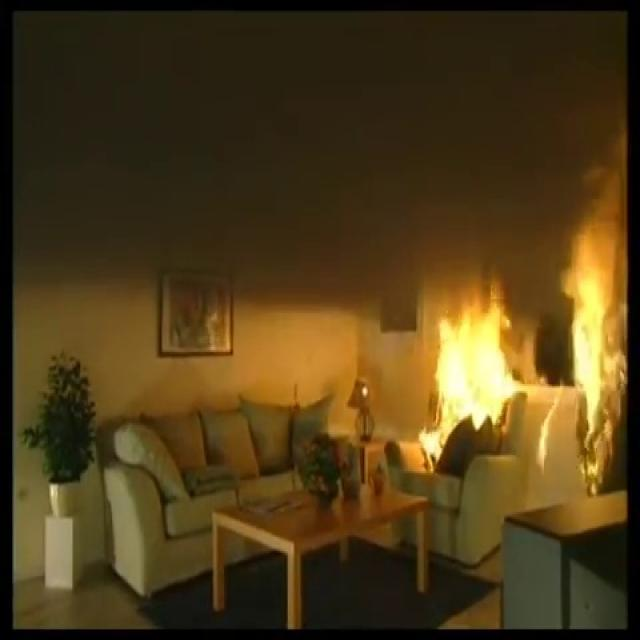Fire: (409, 256, 530, 468), (564, 175, 640, 494)
Smoke: (13, 22, 396, 316), (341, 35, 568, 248), (527, 28, 629, 158)
